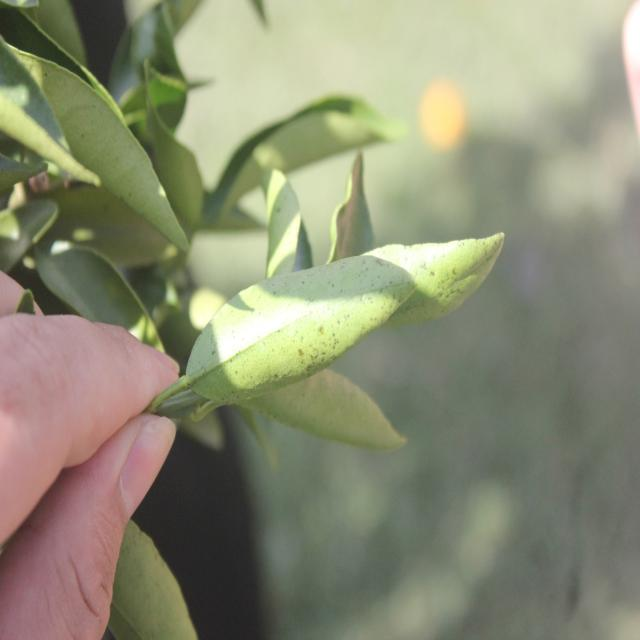melanose: (172, 236, 506, 417)
